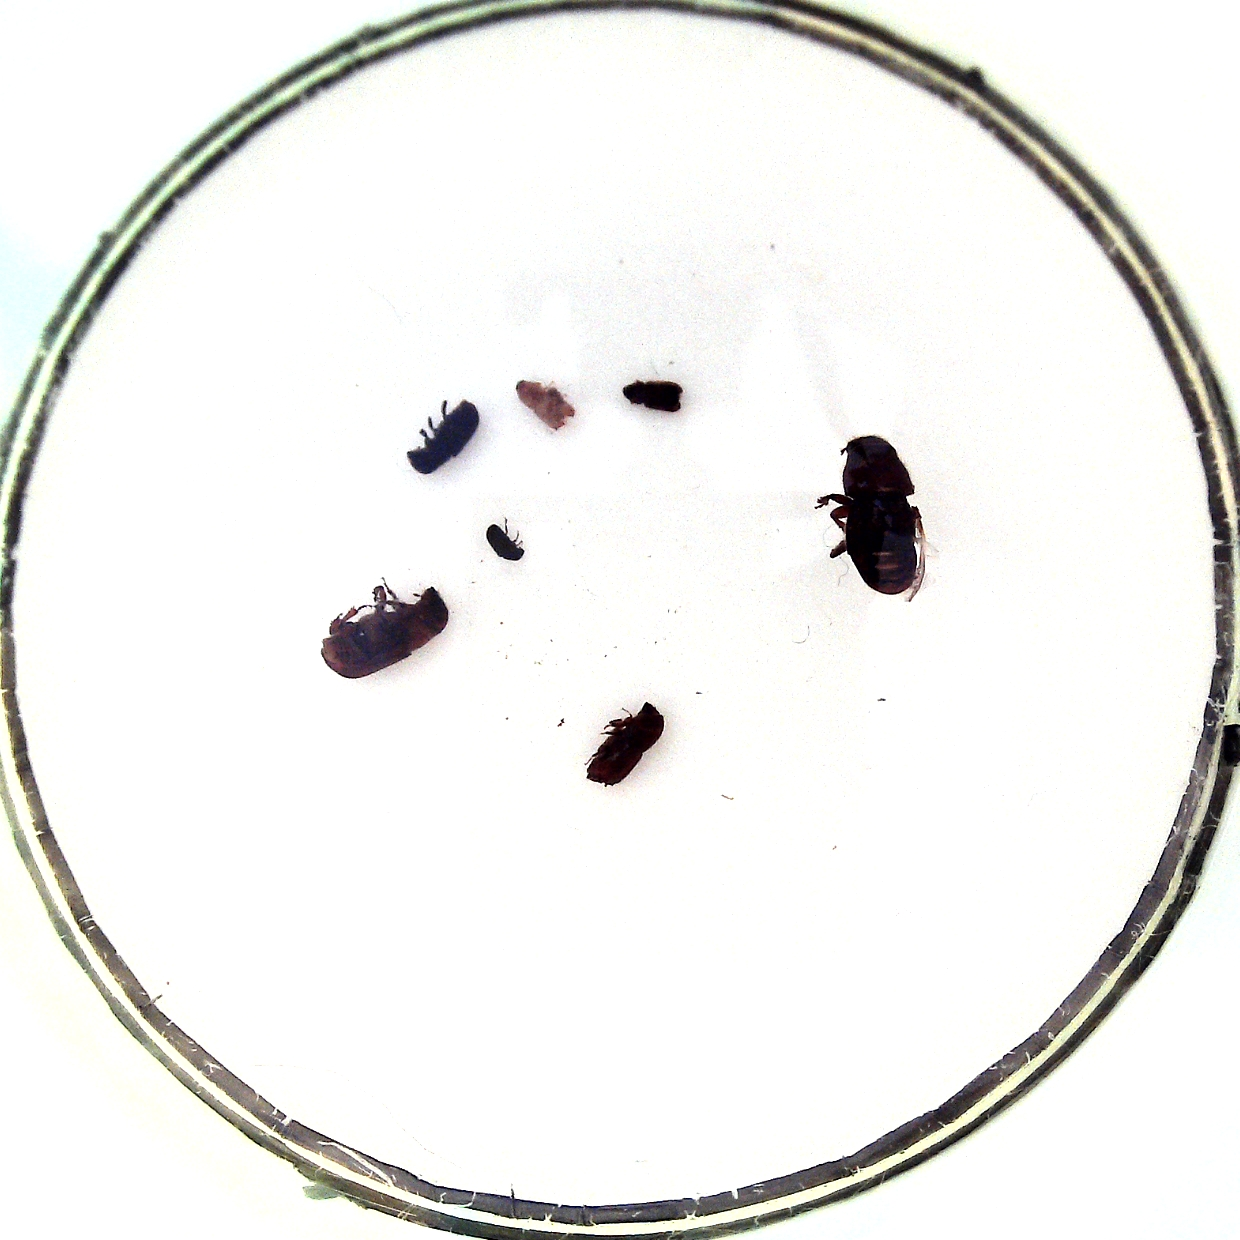Leconte: (841, 436, 918, 595), (320, 588, 450, 678)
acuminatus: (486, 523, 523, 561)
armandi: (407, 400, 479, 475)
coleoptera: (516, 379, 576, 430), (622, 380, 682, 413)
linnaeus: (585, 701, 664, 786)
